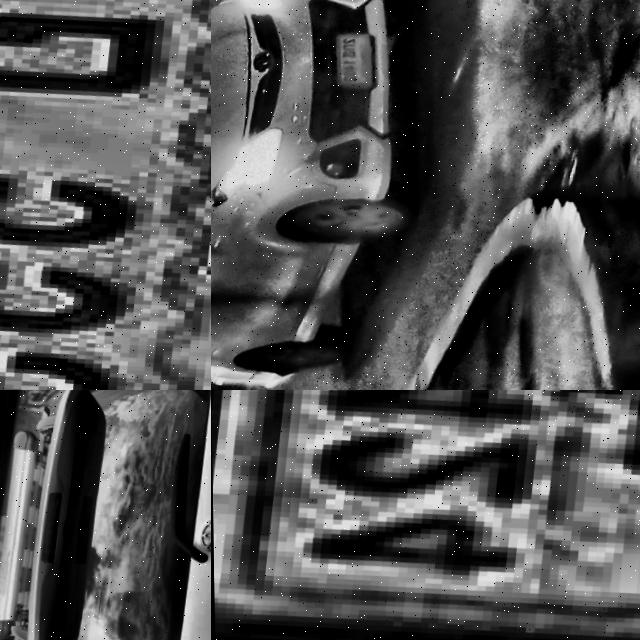license-plate: (211, 390, 640, 640), (0, 0, 211, 390), (332, 31, 374, 96)
